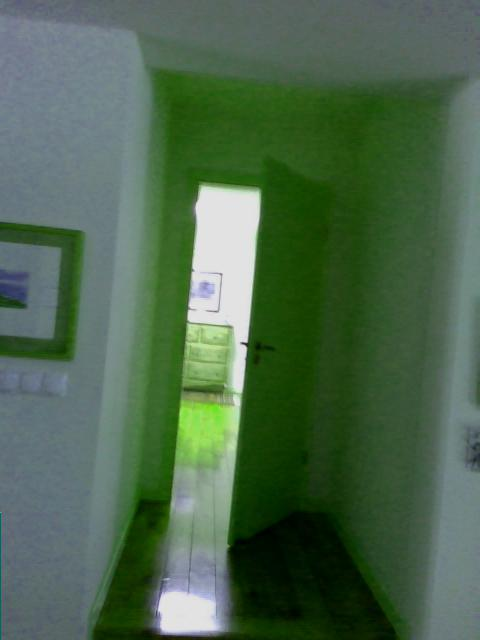semi_door: (166, 148, 335, 548)
